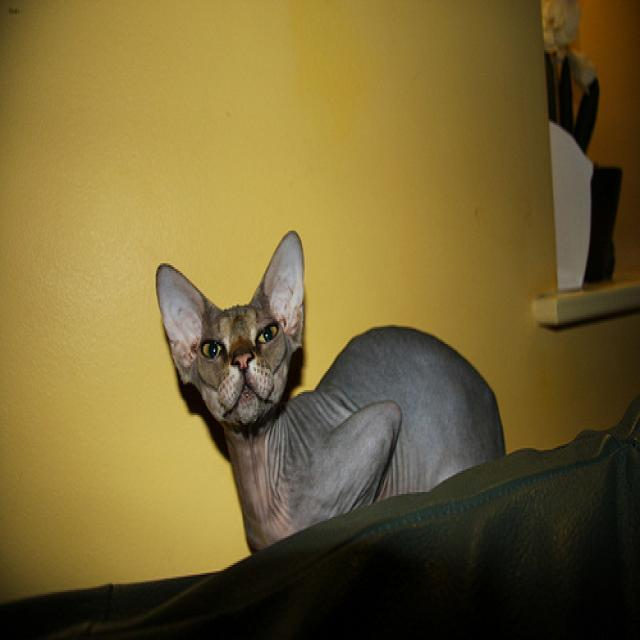Sphynx: (154, 229, 302, 421)
